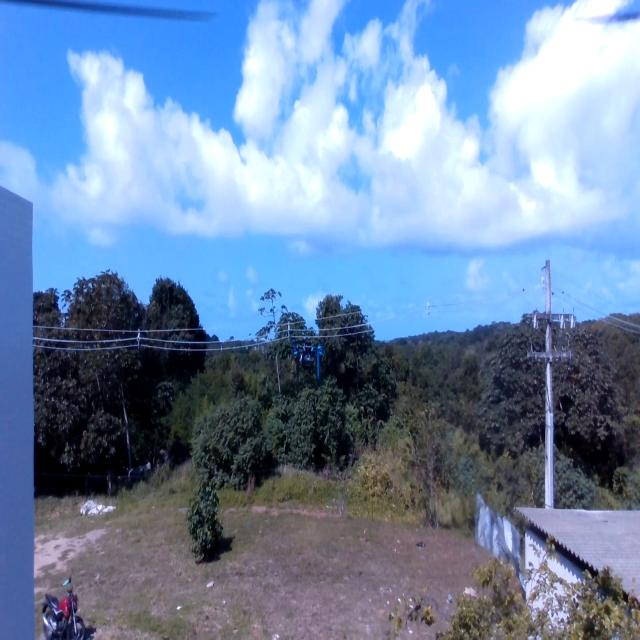-uav-: (291, 329, 325, 391)
